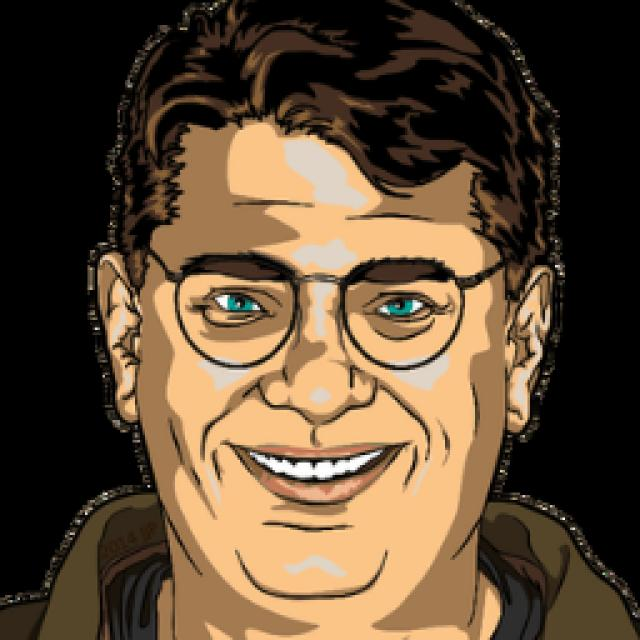glasses: (130, 228, 526, 380)
